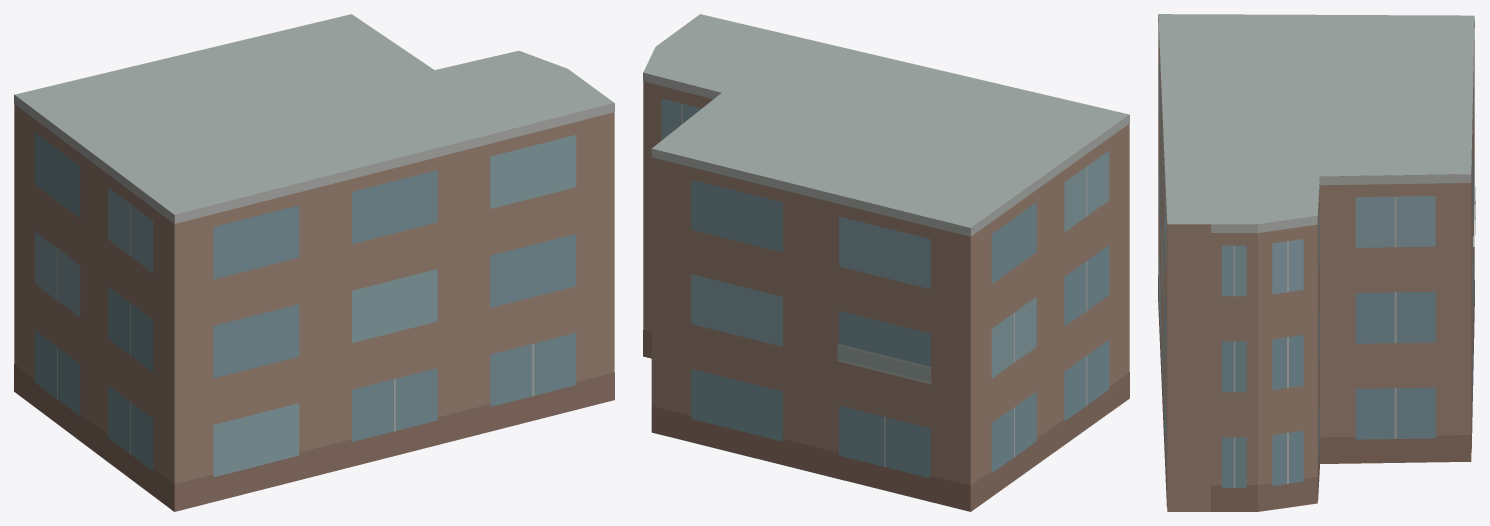
The model's file is survey-upis-32926468.glb.
The picture shows the model from 3 angles, left to right: view 1: azimuth 30°, elevation 25°; view 2: azimuth 150°, elevation 25°; view 3: azimuth 270°, elevation 25°; orthographic projection. The views are drawn at different scales.
Parts seen in each view (by area): view 1: survey-upis-32926468.tmp; view 2: survey-upis-32926468.tmp; view 3: survey-upis-32926468.tmp.
Boxes of the visible parts, box(x1,y1,x2,y2) form: survey-upis-32926468.tmp: box(14, 14, 614, 511); survey-upis-32926468.tmp: box(643, 14, 1129, 511); survey-upis-32926468.tmp: box(1158, 14, 1475, 511).
Size of the model in its own units: 12.48 by 7.95 by 7.96.
